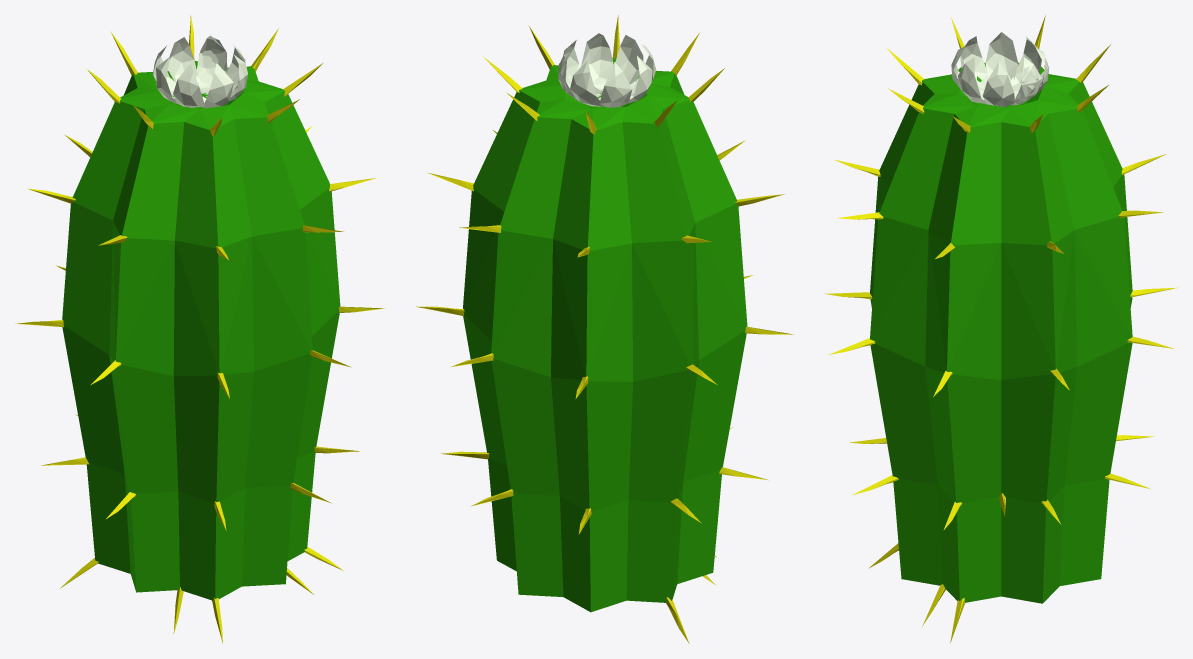
The model's file is kaktus2 (2).fbx.
The picture shows the model from 3 angles, left to right: view 1: azimuth 30°, elevation 25°; view 2: azimuth 150°, elevation 25°; view 3: azimuth 270°, elevation 25°; orthographic projection. The views are drawn at different scales.
Parts seen in each view (by area): view 1: Cube; view 2: Cube; view 3: Cube.
Boxes of the visible parts, x1,y1,x2,y2 form: Cube: (62, 35, 340, 600); Cube: (463, 33, 747, 612); Cube: (870, 32, 1132, 603).
Bounding box in the file's own units: 325 × 558 × 328.
